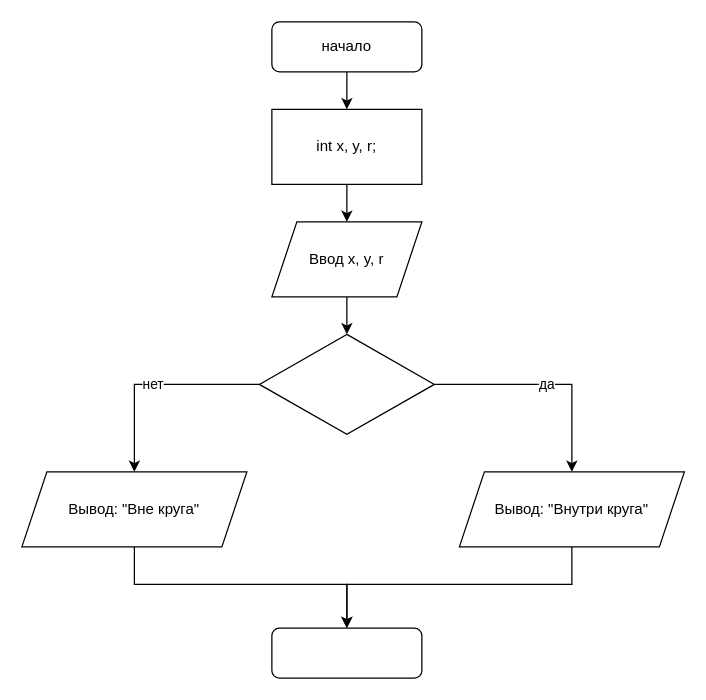
Some shapes in this 706 by 700 pixel diagram are drawn without their labels. The centre of each missing label's shape, as x and y in pixels:
"r^2 > x^2 + y^2" goes at (346,383).
"конец" goes at (346,652).
